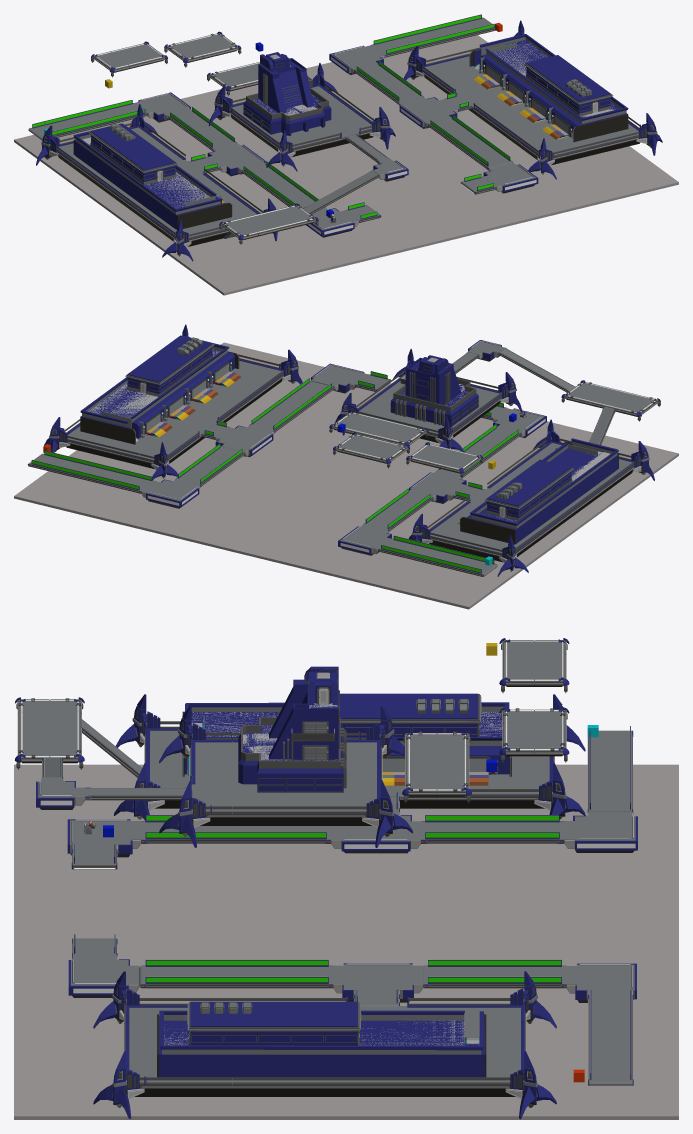
The picture shows the model from 3 angles, top to bottom: view 1: azimuth 30°, elevation 25°; view 2: azimuth 150°, elevation 25°; view 3: azimuth 270°, elevation 25°; orthographic projection. The views are drawn at different scales.
Visible parts, largest first — view 1: ground.005, Big Platform.012, Big Platform.010, garage mesh.002, garage mesh.001, Big Platform.011, garage.002, garage.001, house 4 mesh.001, path large.011, path large.006, house 4.001 (+19 smaller); view 2: ground.005, Big Platform.012, Big Platform.010, garage mesh.002, garage.002, garage mesh.001, garage.001, Big Platform.011, house 4 mesh.001, house 4.001, path large.011, path large.006 (+18 smaller); view 3: ground.005, garage mesh.002, Big Platform.012, Big Platform.011, Big Platform.010, garage.002, house 4 mesh.001, garage mesh.001, path large.010, garage.001, path large.011, small platform.007 (+20 smaller).
Part boxes in pixels (left/top/right/bottom): ground.005: left=14, top=35, right=678, bottom=295; Big Platform.012: left=403, top=20, right=662, bottom=179; Big Platform.010: left=36, top=104, right=277, bottom=261; garage mesh.002: left=473, top=37, right=627, bottom=139; garage mesh.001: left=74, top=123, right=225, bottom=229; Big Platform.011: left=208, top=63, right=395, bottom=171; garage.002: left=469, top=34, right=628, bottom=142; garage.001: left=73, top=123, right=232, bottom=229; house 4 mesh.001: left=243, top=52, right=331, bottom=135; path large.011: left=371, top=14, right=495, bottom=57; path large.006: left=28, top=100, right=148, bottom=140; house 4.001: left=243, top=54, right=330, bottom=135; ground.005: left=14, top=342, right=678, bottom=609; Big Platform.012: left=44, top=324, right=302, bottom=480; Big Platform.010: left=408, top=419, right=654, bottom=576; garage mesh.002: left=81, top=335, right=241, bottom=441; garage.002: left=80, top=335, right=239, bottom=444; garage mesh.001: left=458, top=441, right=617, bottom=543; garage.001: left=460, top=438, right=618, bottom=544; Big Platform.011: left=335, top=349, right=522, bottom=452; house 4 mesh.001: left=391, top=355, right=478, bottom=427; house 4.001: left=390, top=357, right=478, bottom=426; path large.011: left=27, top=450, right=155, bottom=493; path large.006: left=378, top=535, right=497, bottom=576; ground.005: left=14, top=764, right=678, bottom=1119; garage mesh.002: left=159, top=1001, right=484, bottom=1077; Big Platform.012: left=93, top=971, right=556, bottom=1119; Big Platform.011: left=159, top=706, right=412, bottom=847; Big Platform.010: left=114, top=694, right=585, bottom=820; garage.002: left=157, top=1001, right=486, bottom=1077; house 4 mesh.001: left=238, top=666, right=343, bottom=792; garage mesh.001: left=183, top=693, right=509, bottom=785; path large.010: left=139, top=959, right=333, bottom=988; garage.001: left=182, top=693, right=511, bottom=777; path large.011: left=588, top=990, right=633, bottom=1085; small platform.007: left=402, top=730, right=471, bottom=802.
Size of the model in its own units: 43210 by 31811 by 11014.
